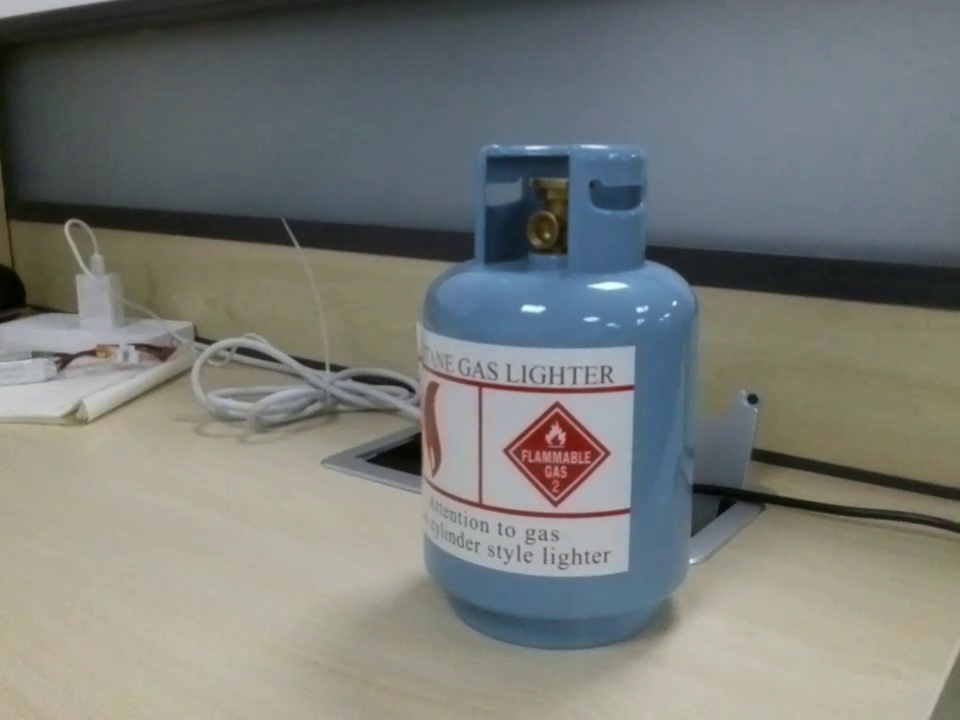gas tank: (414, 135, 700, 656)
